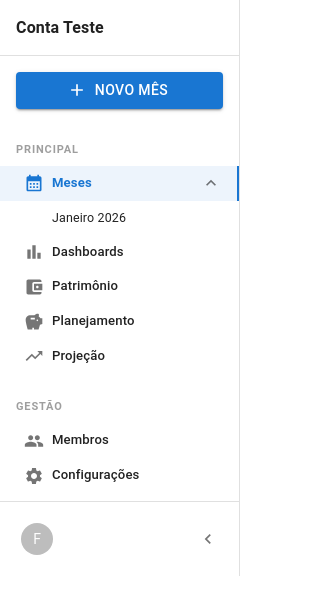
Scenario: AppSidebar — recolhido vs expandido (NAV-05) › toggle de recolher/expandir: aria-label e aria-expanded refletem o estado
Click the button named "Recolher navegação" at (208, 539), box [193,524,223,554]
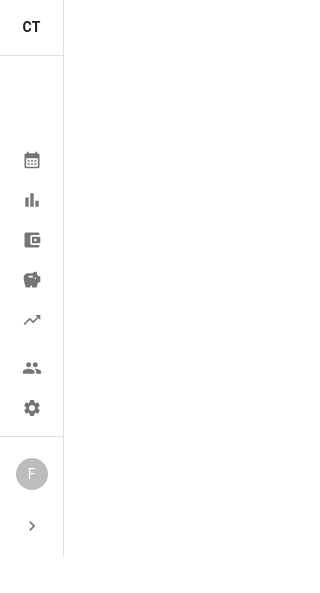
Expected: the button named "Expandir navegação" is collapsed, [16,511,46,541]
